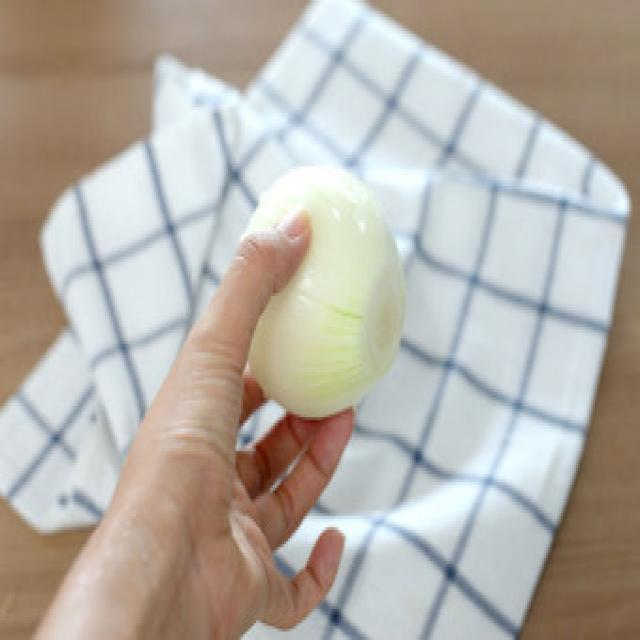onion: (210, 149, 418, 430)
